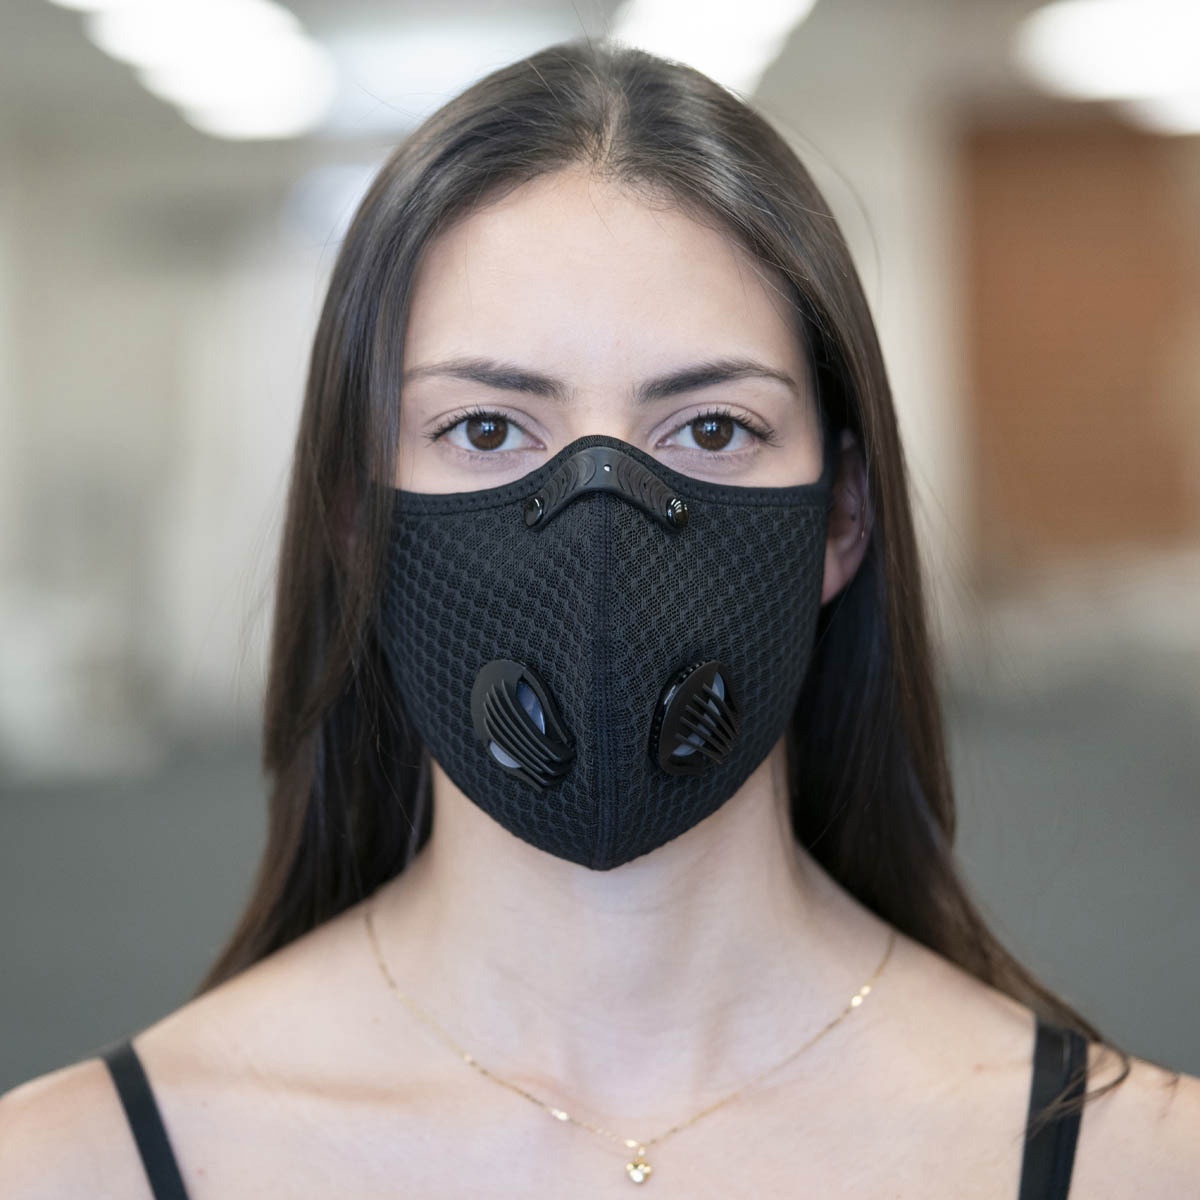mask: (318, 447, 861, 873)
person: (30, 37, 1182, 1200)
